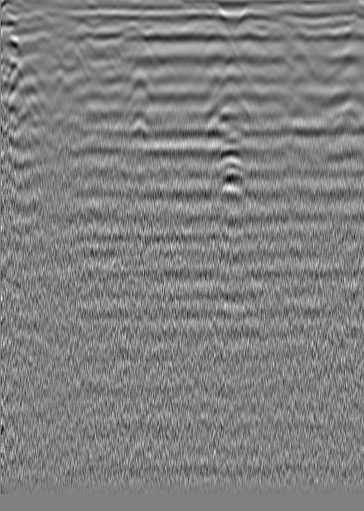가스: (205, 149, 248, 187)
상수: (288, 24, 308, 44)
오수: (32, 31, 52, 51)
우수: (156, 16, 176, 36)
